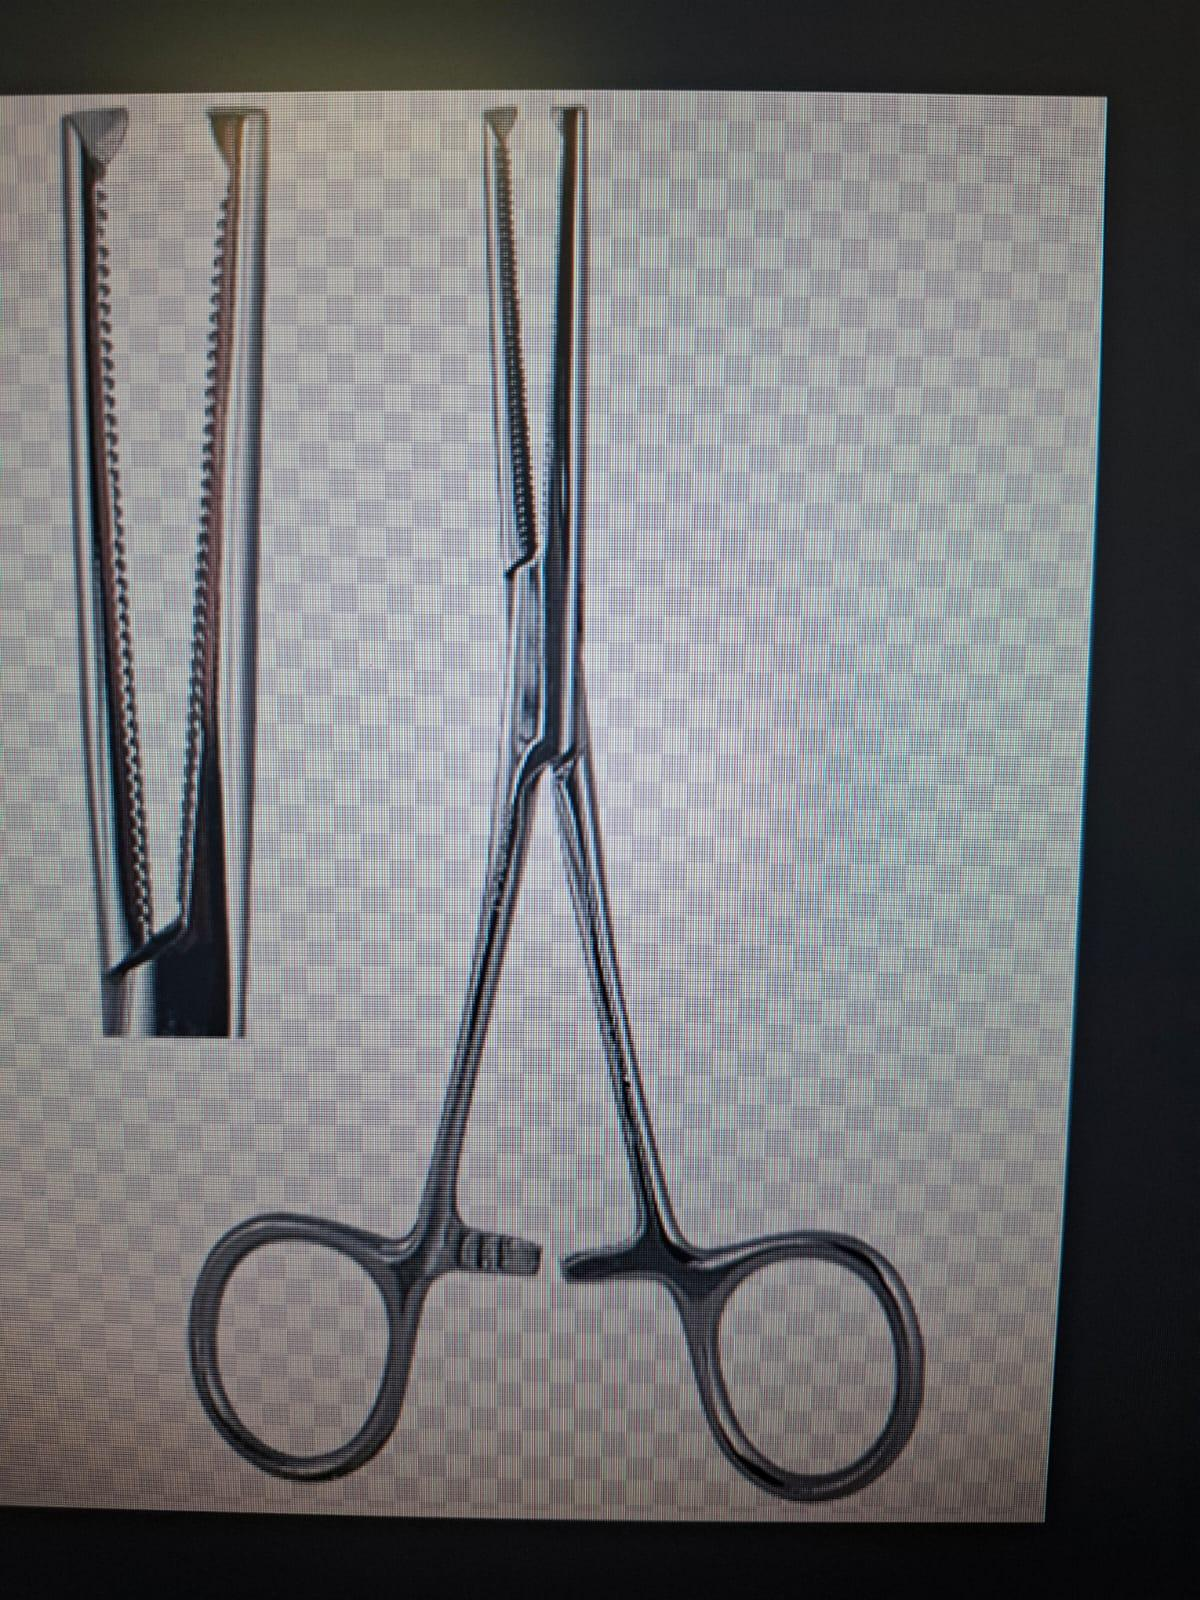Kocher Forceps: (188, 90, 950, 1518)
